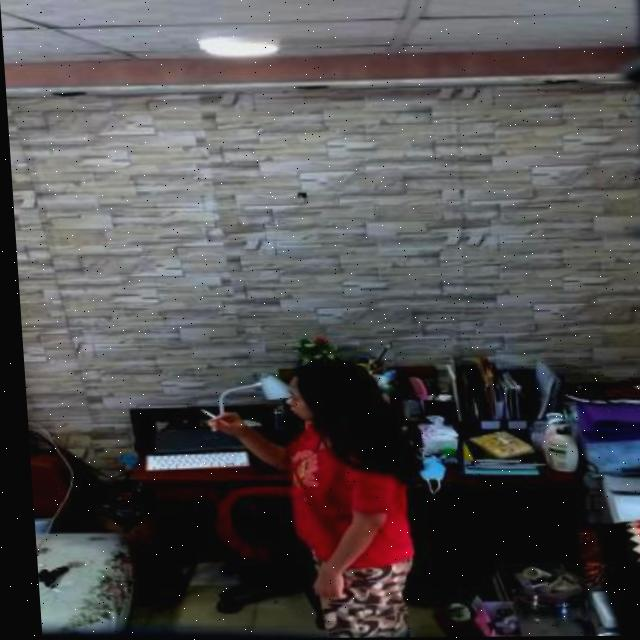cigarette: (193, 408, 223, 426)
